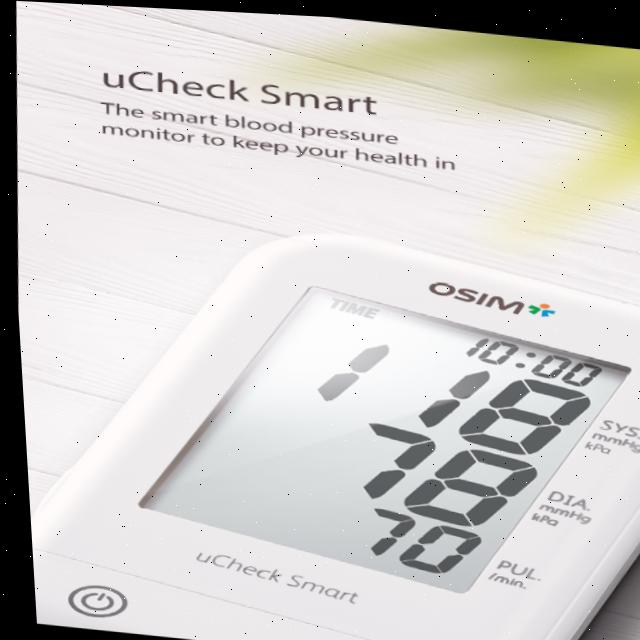dia: (315, 409, 547, 542)
pul: (331, 494, 488, 583)
ssd: (128, 255, 628, 619)
sys: (289, 317, 601, 471)
